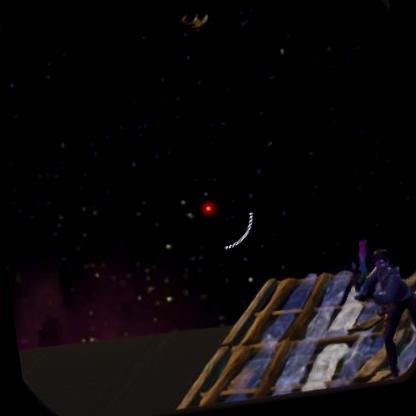person: (353, 245, 416, 346)
